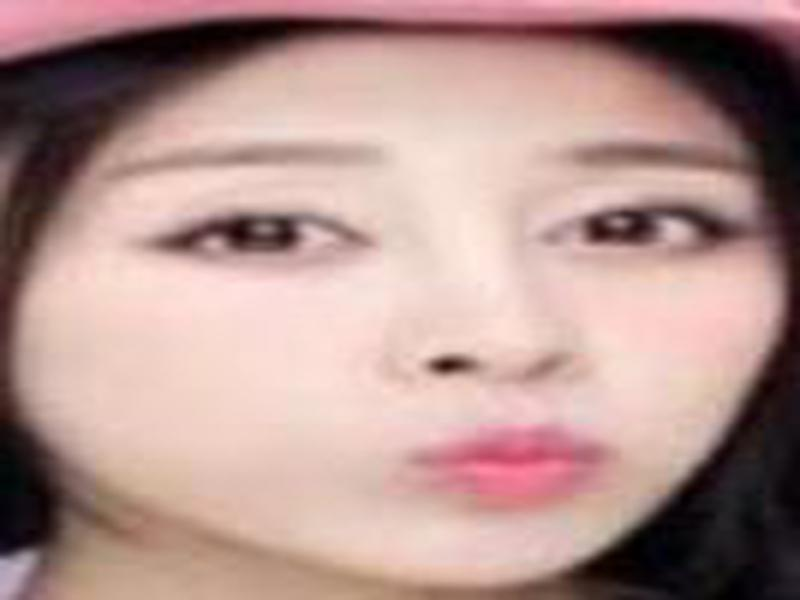without_mask: (21, 89, 785, 584)
